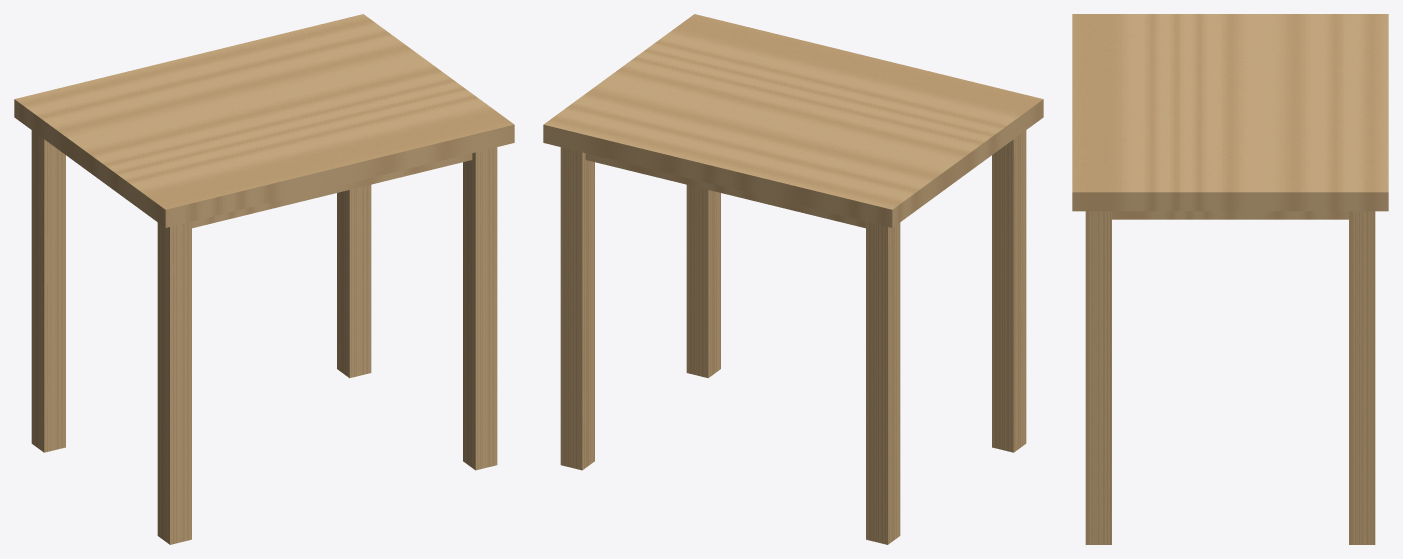
File: table.glb
3 renders of one model, left to right at view 1: azimuth 30°, elevation 25°; view 2: azimuth 150°, elevation 25°; view 3: azimuth 270°, elevation 25°, orthographic. The views are drawn at different scales.
Parts seen in each view (by area): view 1: table; view 2: table; view 3: table.
Part boxes in pixels (x1,y1,x2,y2): table: (14, 14, 514, 544); table: (543, 14, 1043, 544); table: (1072, 14, 1388, 544).
Size of the model in its own units: 0.8 by 0.75 by 0.6.
Materials: 1 (1 with a texture image).
